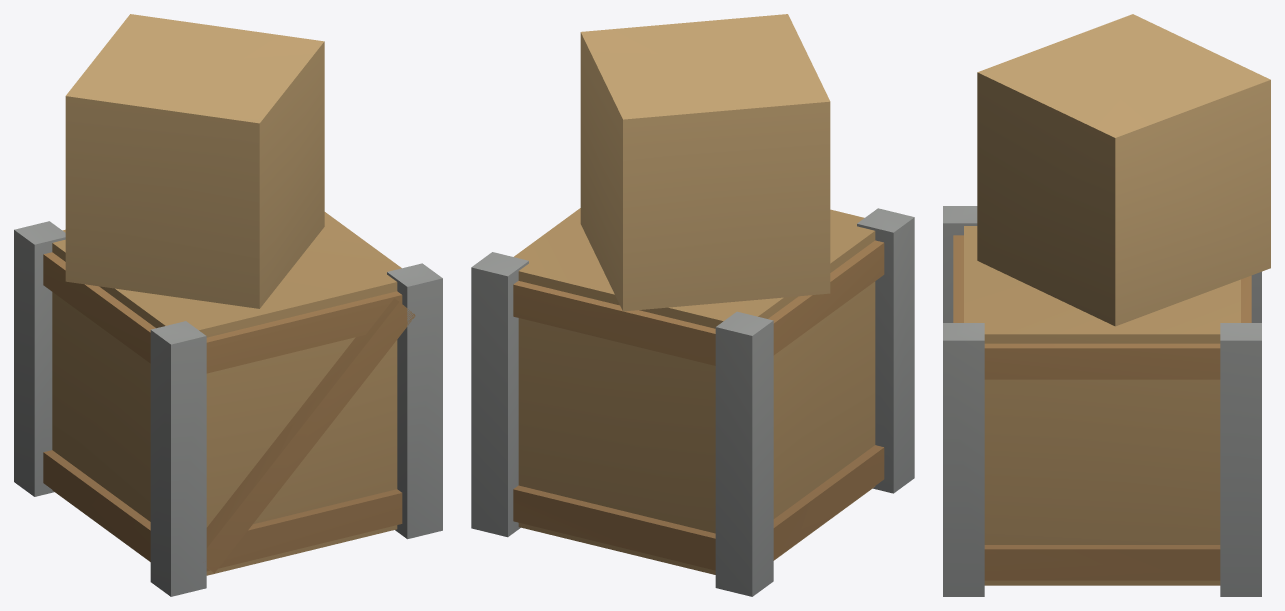
The model's file is cen_valak_caixa_1.glb.
3 renders of one model, left to right at view 1: azimuth 30°, elevation 25°; view 2: azimuth 150°, elevation 25°; view 3: azimuth 270°, elevation 25°, orthographic. The views are drawn at different scales.
Parts seen in each view (by area): view 1: caixa; view 2: caixa; view 3: caixa.
Boxes of the visible parts, left/top/right/bottom form: caixa: left=14, top=14, right=442, bottom=596; caixa: left=471, top=14, right=914, bottom=596; caixa: left=943, top=14, right=1270, bottom=596.
Bounding box in the file's own units: 0.9607 × 1.41 × 0.946.
